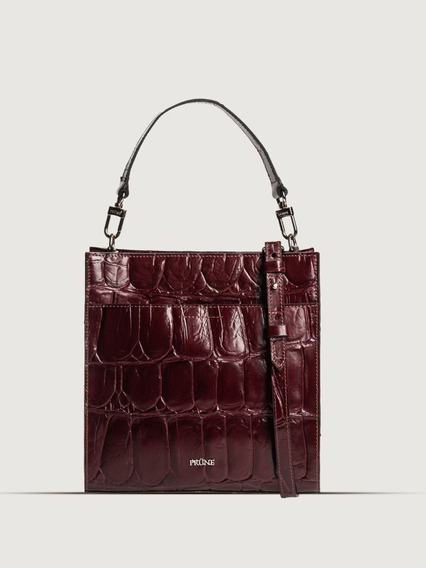cartera: (80, 97, 325, 499)
